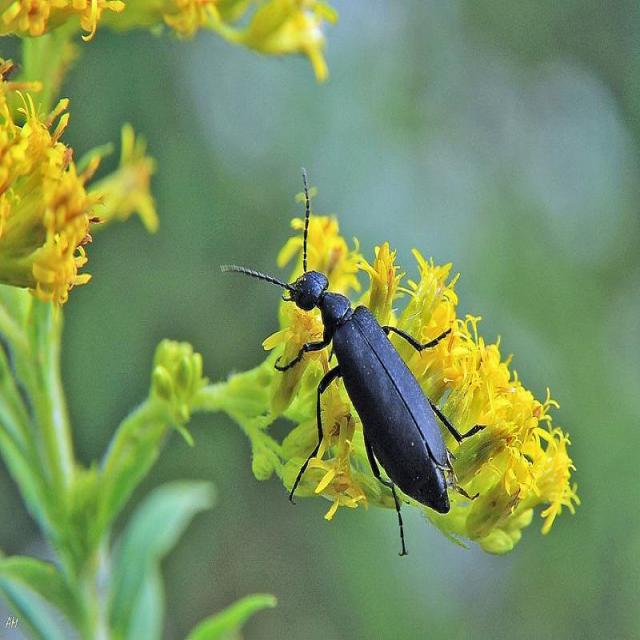BlisterBeetle-Adult-: (211, 165, 489, 560)
